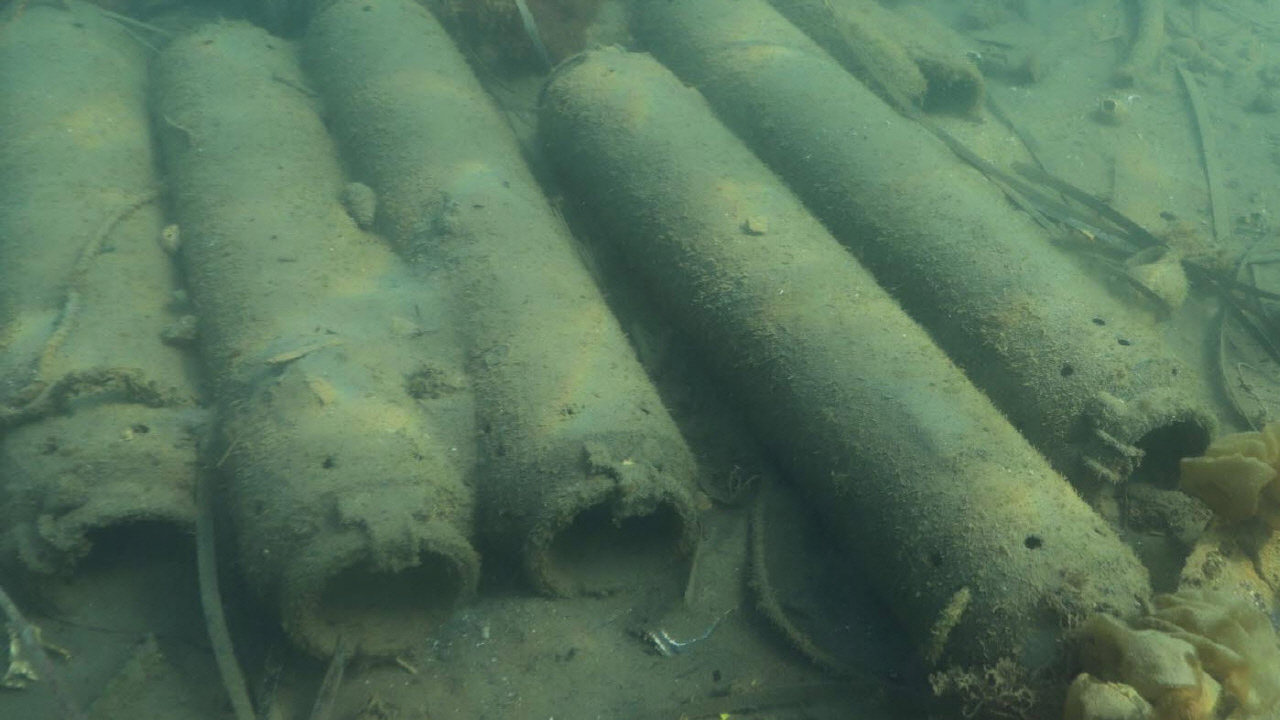eel fish trap: (534, 44, 1152, 707), (637, 0, 1221, 509), (307, 0, 698, 598), (147, 20, 480, 660), (0, 4, 203, 565)
